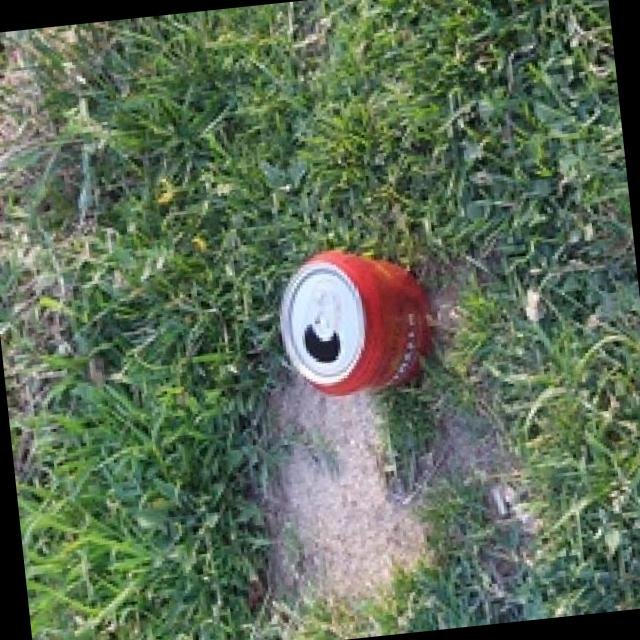Kaleng: (241, 232, 457, 418)
